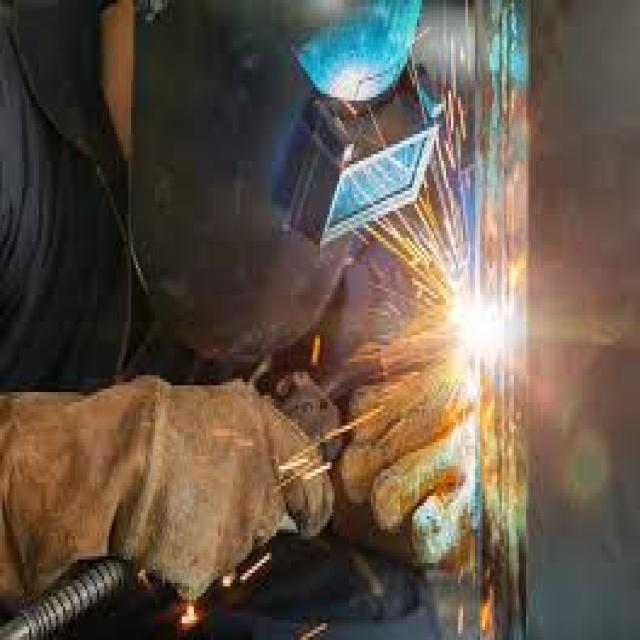welding: (456, 293, 500, 356)
